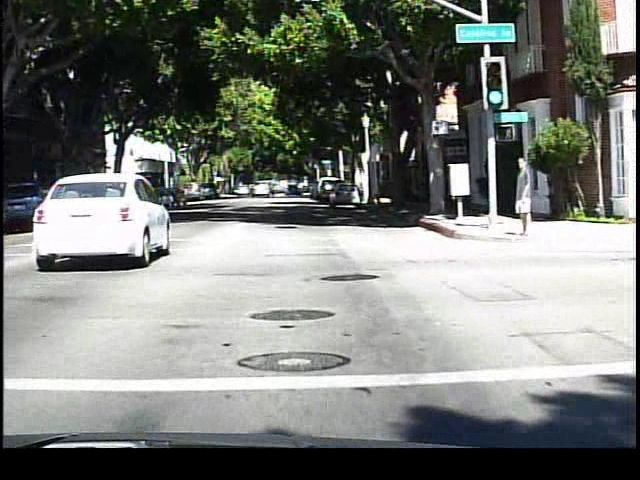person: (507, 151, 536, 241)
